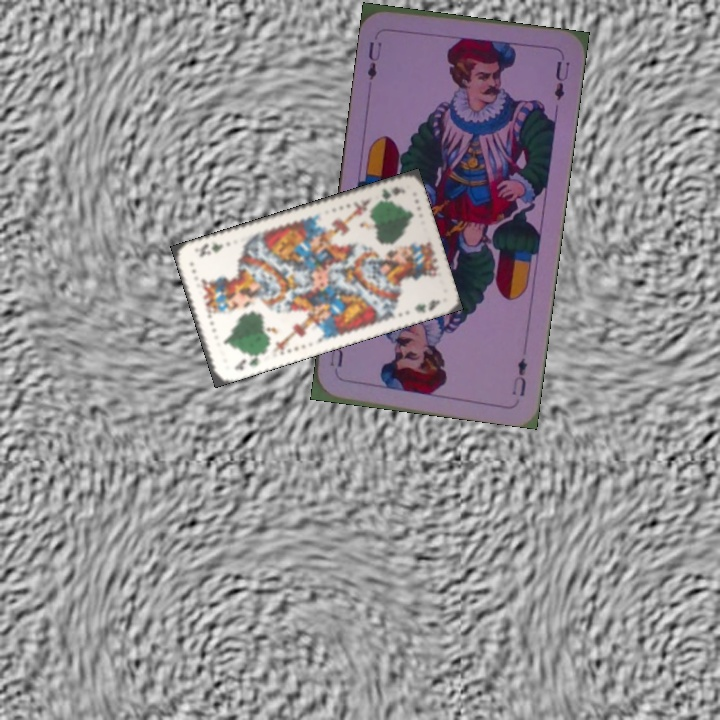EU: (507, 354, 530, 399), (363, 37, 385, 83)
GK: (372, 183, 408, 205), (230, 349, 263, 373)
